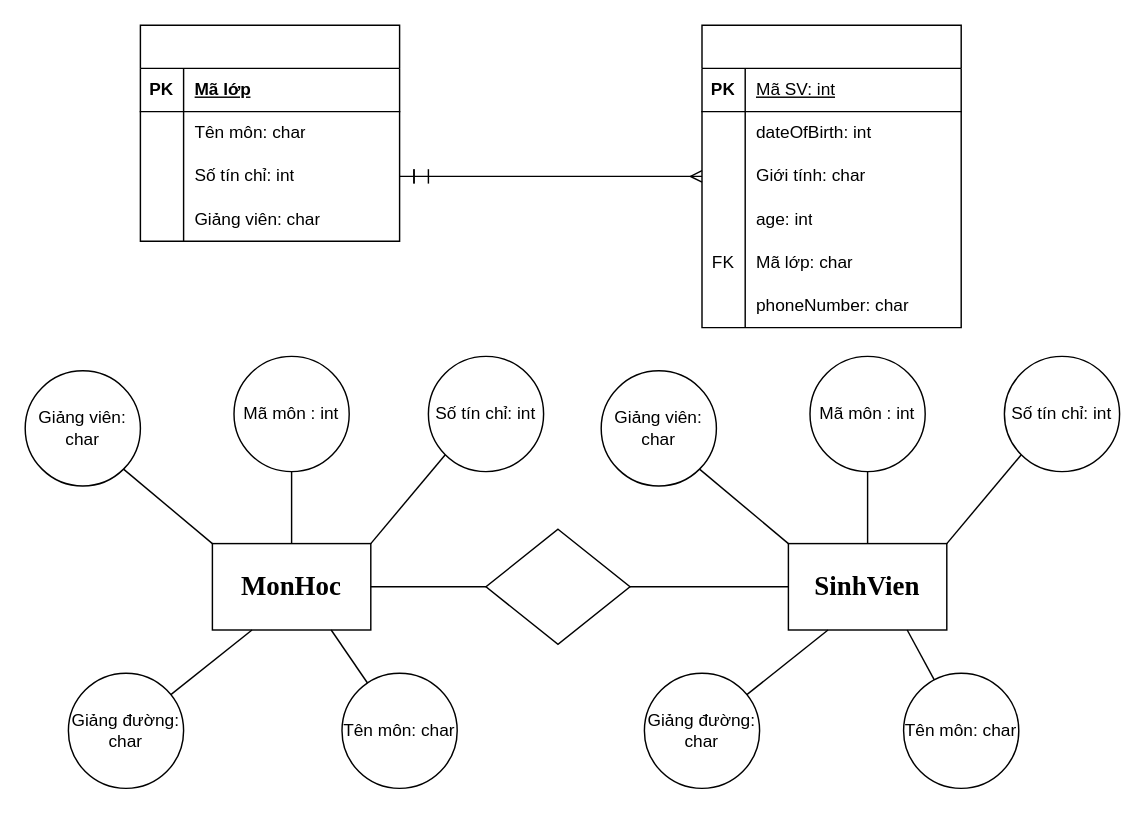
This 1145x814 diagram has some shape labels left out. The box of each missing label's shape, as (x1, y1, x2, y2) in pixels:
Lop: (139, 24, 400, 241)
Student: (701, 24, 961, 328)
Thuộc lớp: (485, 528, 630, 644)
